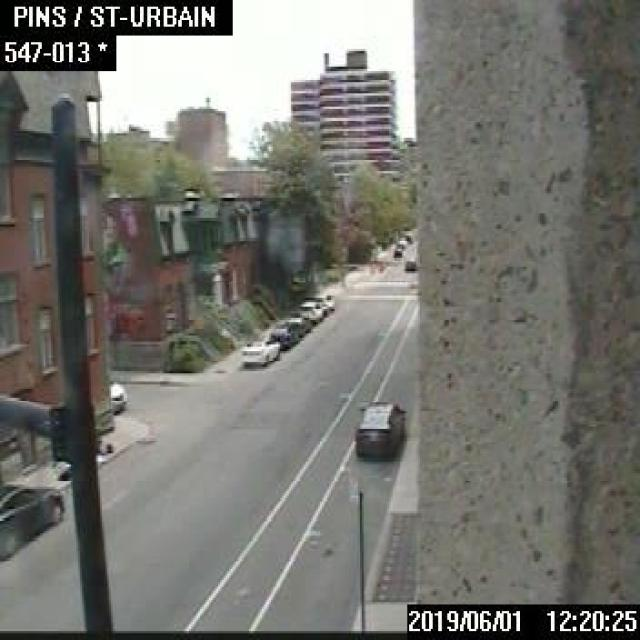vehicle: (0, 478, 64, 560), (353, 400, 406, 458), (241, 335, 278, 365), (108, 376, 129, 414), (269, 322, 294, 348), (297, 300, 321, 323), (284, 314, 309, 334), (306, 293, 326, 314), (313, 289, 333, 309), (404, 256, 415, 270), (392, 245, 401, 256)
